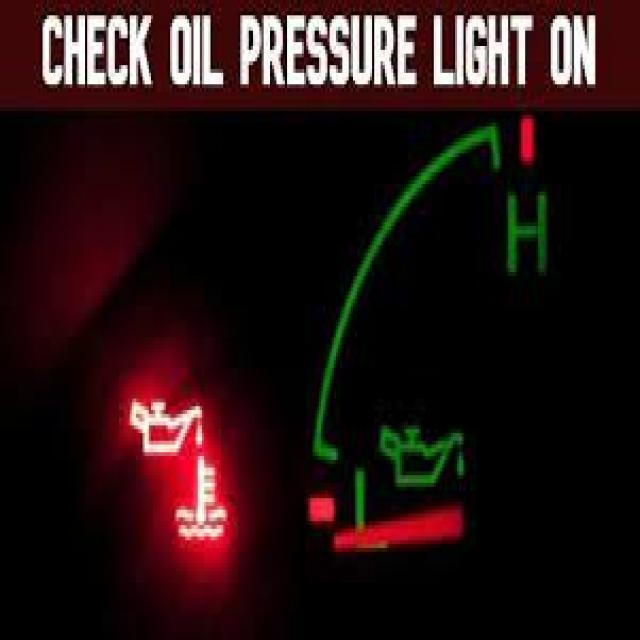OilPressureLow: (123, 384, 204, 459)
TemperatureWarning: (170, 465, 234, 541)
